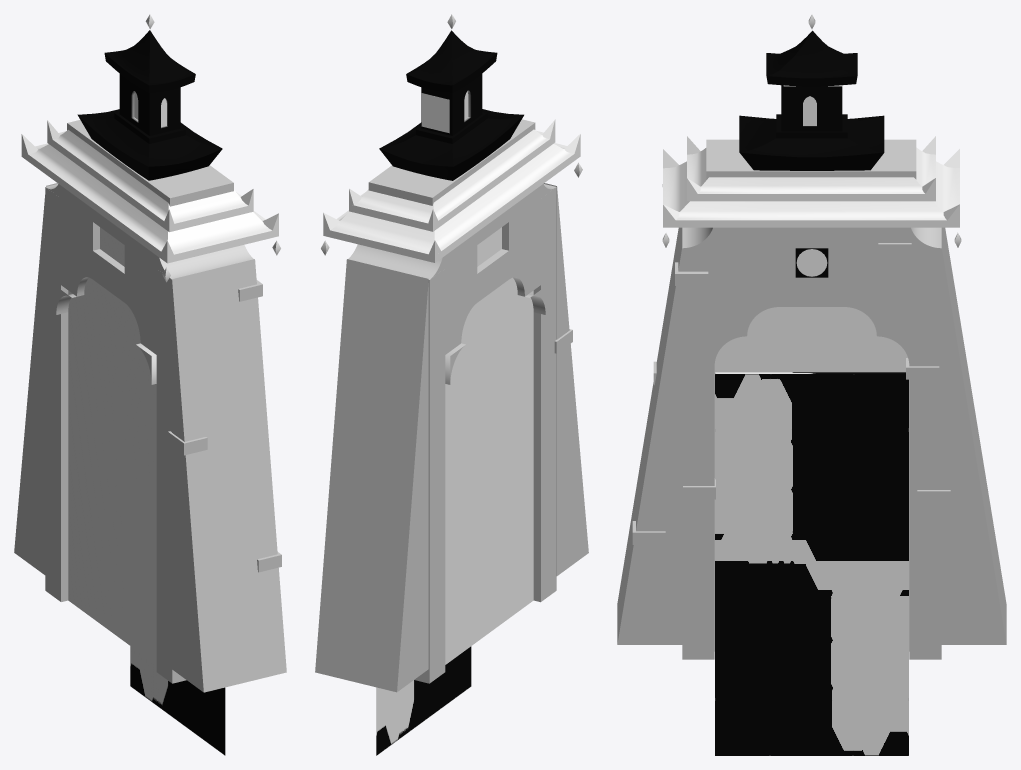
File: SeaGate_ExitScene.fbx
The picture shows the model from 3 angles, left to right: view 1: azimuth 30°, elevation 25°; view 2: azimuth 150°, elevation 25°; view 3: azimuth 270°, elevation 25°; orthographic projection.
Parts seen in each view (by area): view 1: Whitebox_Slope (×2), DepthFadeCube, Whitebox_cube (×2), Rooftop_Rescue_Huge, Rooftops_Four_Point_Village_Middle_Wide, Whitebox_cube (6), Rooftops_Four_Point_Village_Middle_Wide (1), Doors_SlidingDoor_Top, Whitebox_cube (2) (×2), Whitebox_cube (7), Whitebox_cube (1), Whitebox_Concave (+2 smaller); view 2: Whitebox_Slope (×2), DepthFadeCube, Whitebox_cube (×2), Rooftop_Rescue_Huge, Whitebox_cube (6), Rooftops_Four_Point_Village_Middle_Wide, Rooftops_Four_Point_Village_Middle_Wide (1), Doors_SlidingDoor_Top, Whitebox_cube (1), Whitebox_Concave, Whitebox_cube (7), Whitebox_cube (3) (+3 smaller); view 3: Doors_SlidingDoor_Top, Doors_SlidingDoor_Top (1), Whitebox_Slope (×2), Whitebox_cube (×2), Whitebox_cube (6), Rooftop_Rescue_Huge, DepthFadeCube, Rooftops_Four_Point_Village_Middle_Wide, Rooftops_Four_Point_Village_Middle_Wide (1), Whitebox_cube (7), Whitebox_cube (1), Whitebox_cube (2) (+5 smaller).
Boxes of the visible parts, box(x1,y1,x2,y2) form: Whitebox_Slope (×2): box(14, 183, 286, 692); DepthFadeCube: box(68, 227, 156, 664); Whitebox_cube (×2): box(45, 120, 233, 601); Rooftop_Rescue_Huge: box(77, 30, 222, 180); Rooftops_Four_Point_Village_Middle_Wide: box(21, 134, 278, 263); Whitebox_cube (6): box(156, 269, 186, 683); Rooftops_Four_Point_Village_Middle_Wide (1): box(47, 120, 253, 232); Doors_SlidingDoor_Top: box(130, 646, 225, 755); Whitebox_cube (2) (×2): box(77, 197, 207, 455); Whitebox_cube (7): box(140, 244, 156, 354); Whitebox_cube (1): box(61, 186, 76, 296); Whitebox_Concave: box(156, 245, 253, 279); Whitebox_Slope (×2): box(315, 183, 588, 692); DepthFadeCube: box(445, 227, 533, 664); Whitebox_cube (×2): box(368, 119, 535, 683); Rooftop_Rescue_Huge: box(379, 30, 523, 180); Whitebox_cube (6): box(533, 187, 556, 602); Rooftops_Four_Point_Village_Middle_Wide: box(323, 134, 580, 262); Rooftops_Four_Point_Village_Middle_Wide (1): box(349, 119, 555, 231); Doors_SlidingDoor_Top: box(376, 646, 471, 755); Whitebox_cube (1): box(445, 244, 461, 354); Whitebox_Concave: box(348, 244, 445, 279); Whitebox_cube (7): box(525, 186, 540, 296); Whitebox_cube (3): box(502, 197, 524, 279); Doors_SlidingDoor_Top: box(715, 561, 908, 755); Doors_SlidingDoor_Top (1): box(715, 374, 908, 560); Whitebox_Slope (×2): box(617, 227, 1006, 644); Whitebox_cube (×2): box(706, 139, 941, 659); Whitebox_cube (6): box(682, 248, 714, 659); Rooftop_Rescue_Huge: box(739, 30, 884, 170); DepthFadeCube: box(714, 307, 909, 651); Rooftops_Four_Point_Village_Middle_Wide: box(663, 149, 959, 227); Rooftops_Four_Point_Village_Middle_Wide (1): box(687, 136, 935, 201); Whitebox_cube (7): box(714, 227, 746, 336); Whitebox_cube (1): box(877, 227, 909, 336); Whitebox_cube (2): box(844, 227, 876, 306).
Size of the model in its own units: 4.21 by 24.77 by 12.
